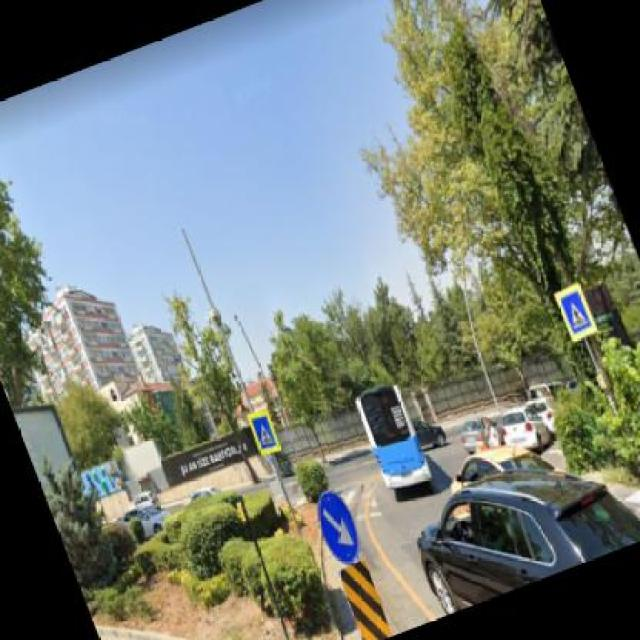yaya: (561, 291, 592, 332), (251, 416, 276, 448)
